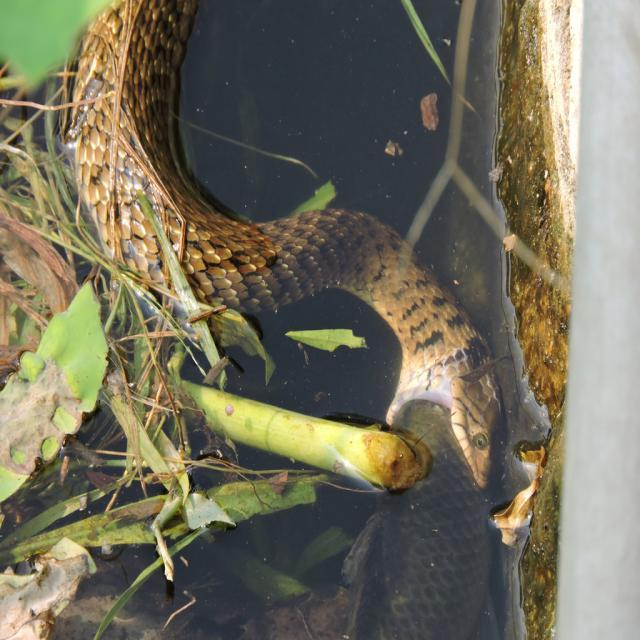Snake: (56, 0, 506, 492)
